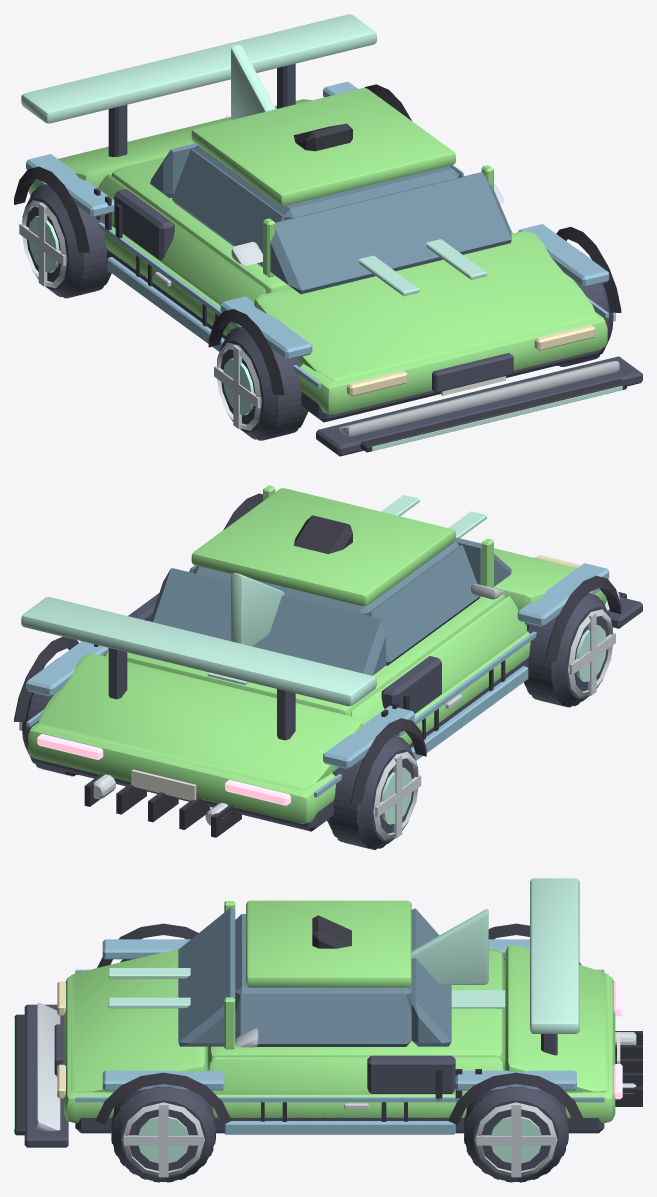
The model's file is racing_radiant.fbx.
The picture shows the model from 3 angles, top to bottom: view 1: azimuth 30°, elevation 25°; view 2: azimuth 150°, elevation 25°; view 3: azimuth 270°, elevation 25°; orthographic projection. The views are drawn at different scales.
Visible parts, largest first — view 1: Body, Glass, Accent2, Trim2, Accent, Trim, Wheel_FR, Accent3, Wheel_RR, Metal, Light, Light2 (+2 smaller); view 2: Body, Glass, Accent2, Trim, Accent, Trim2, Metal, Wheel_RR, Wheel_FR, Light3, Metal2, Light (+2 smaller); view 3: Body, Glass, Accent2, Trim, Accent, Trim2, Metal, Wheel_FL, Wheel_RL, Light, Accent3, Metal2 (+2 smaller).
Part boxes in pixels (left/top/right/bottom): Body: left=28, top=88, right=607, bottom=414; Glass: left=150, top=143, right=511, bottom=294; Accent2: left=21, top=14, right=376, bottom=123; Trim2: left=106, top=63, right=642, bottom=456; Accent: left=26, top=81, right=609, bottom=388; Trim: left=14, top=84, right=626, bottom=452; Wheel_FR: left=217, top=326, right=308, bottom=440; Accent3: left=231, top=184, right=619, bottom=436; Wheel_RR: left=22, top=184, right=111, bottom=298; Metal: left=19, top=200, right=615, bottom=430; Light: left=358, top=239, right=622, bottom=450; Light2: left=347, top=324, right=595, bottom=396; Body: left=28, top=485, right=606, bottom=823; Glass: left=150, top=493, right=511, bottom=675; Accent2: left=21, top=573, right=376, bottom=706; Trim: left=14, top=493, right=626, bottom=837; Accent: left=26, top=563, right=609, bottom=797; Trim2: left=33, top=593, right=642, bottom=831; Metal: left=19, top=609, right=615, bottom=839; Wheel_RR: left=327, top=735, right=418, bottom=849; Wheel_FR: left=524, top=593, right=612, bottom=707; Light3: left=37, top=734, right=290, bottom=805; Metal2: left=381, top=625, right=606, bottom=824; Light: left=207, top=495, right=486, bottom=685; Body: left=64, top=900, right=615, bottom=1122; Glass: left=178, top=908, right=451, bottom=1046; Accent2: left=235, top=878, right=579, bottom=1044; Trim: left=14, top=915, right=642, bottom=1135; Accent: left=75, top=939, right=604, bottom=1134; Trim2: left=24, top=1004, right=604, bottom=1147; Metal: left=122, top=1032, right=636, bottom=1177; Wheel_FL: left=111, top=1086, right=215, bottom=1182; Wheel_RL: left=464, top=1086, right=568, bottom=1182; Light: left=14, top=968, right=505, bottom=1131; Accent3: left=37, top=1002, right=258, bottom=1130; Metal2: left=138, top=1116, right=541, bottom=1163.
Bounding box in the file's own units: 3.4 × 2 × 5.71.
